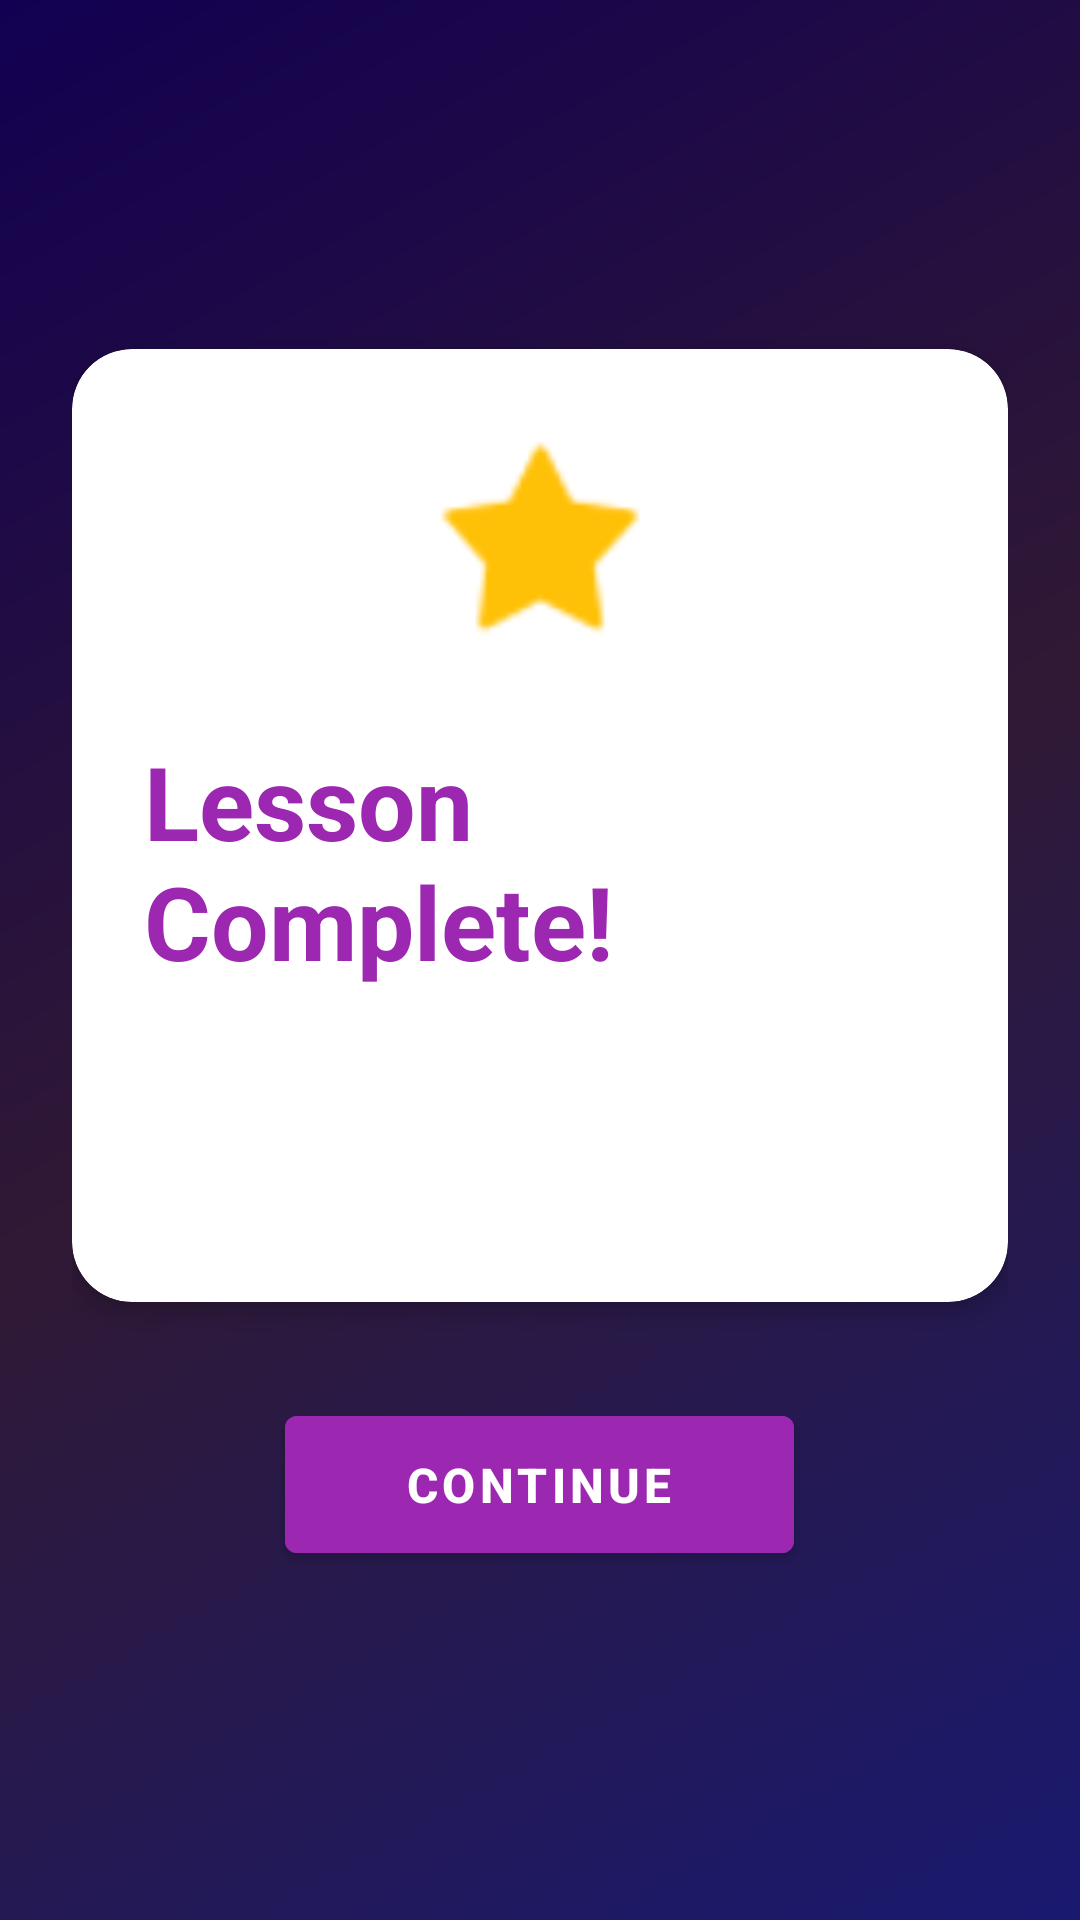

Named icons in this screenshot (1080×1920) and their bounding boxes, [x1,y1,x2,y2]:
Result Icon: [441,442,639,632]
